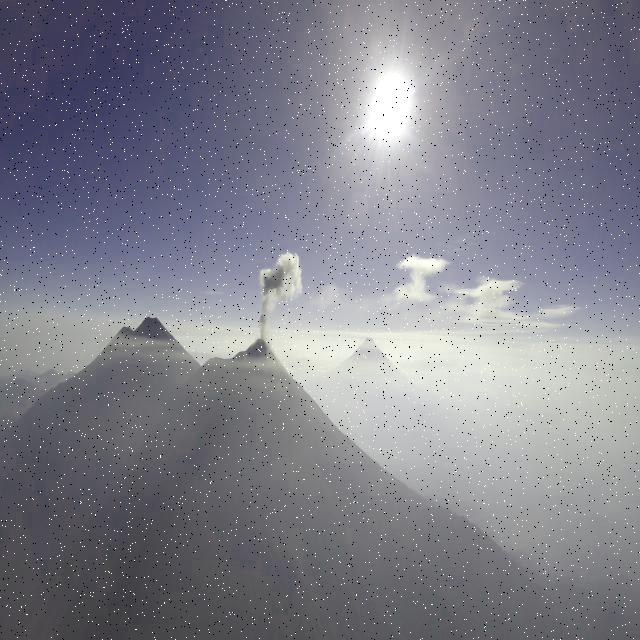Plume: (256, 248, 305, 339)
Summit: (185, 336, 300, 392)
